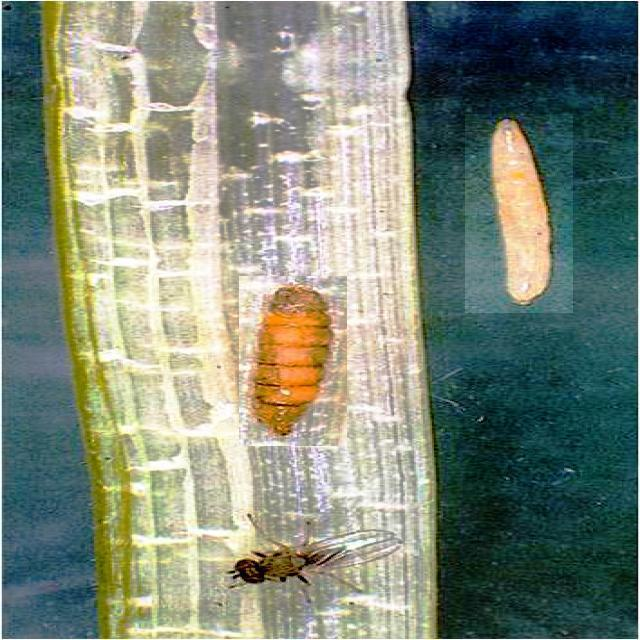whorl-maggot: (465, 114, 573, 313), (239, 276, 347, 446)
